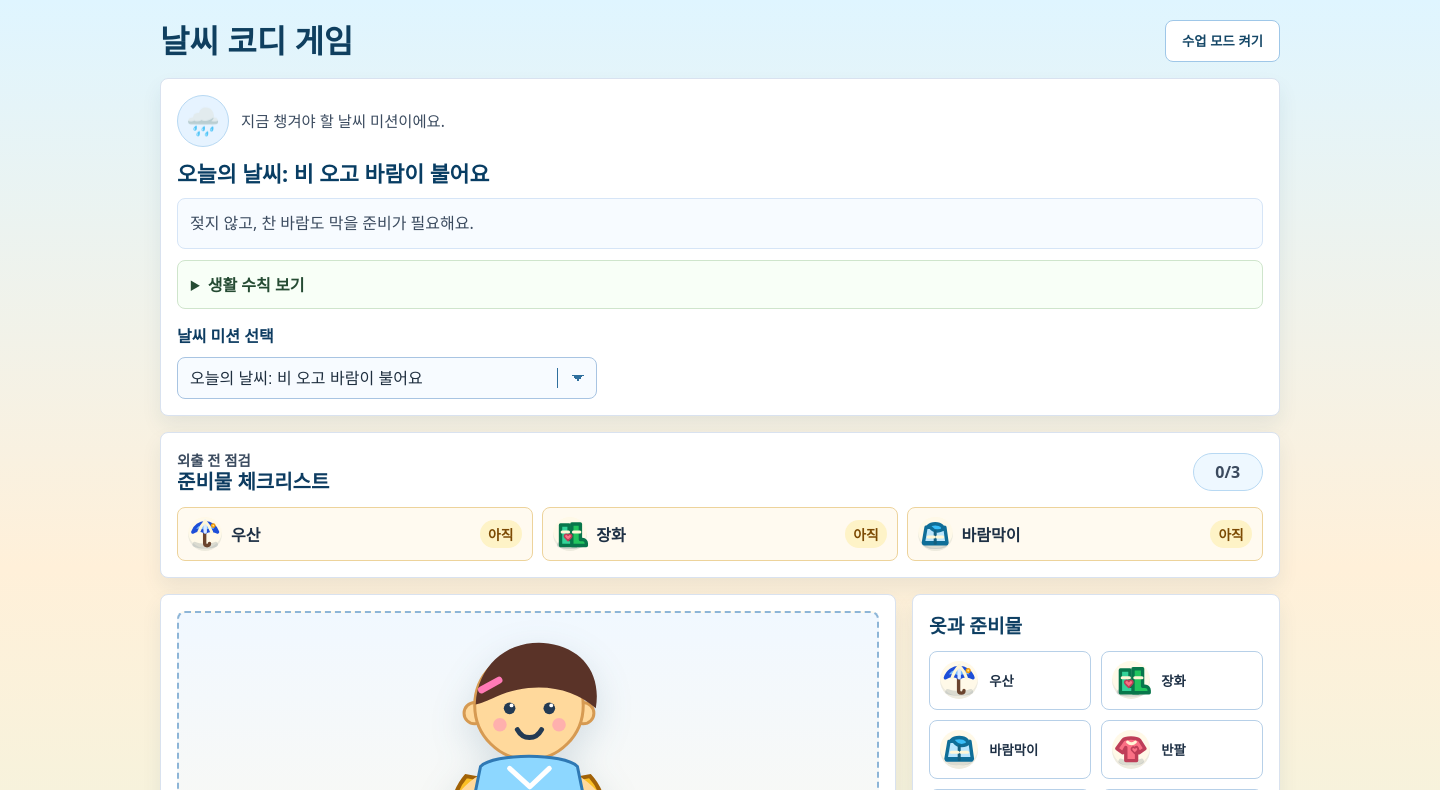
Scenario: weather outfit planner › toggles classroom mode with an accessible pressed state
Click the button "수업 모드 켜기". click: (1222, 41)
box: [1165,20,1280,62]
(page scrolled)
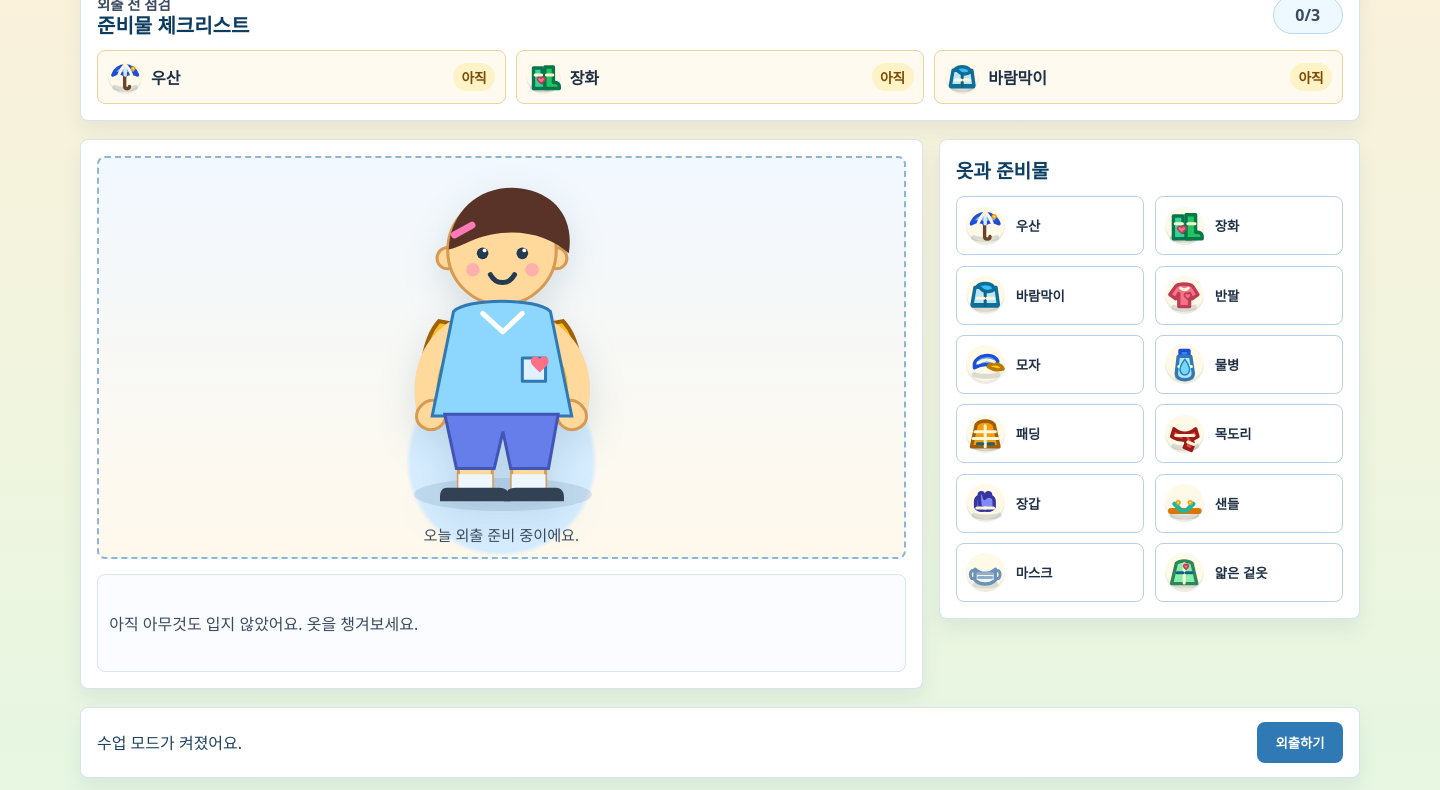
Now the message reads "수업 모드가 켜졌어요.", box [97,732,242,754]
